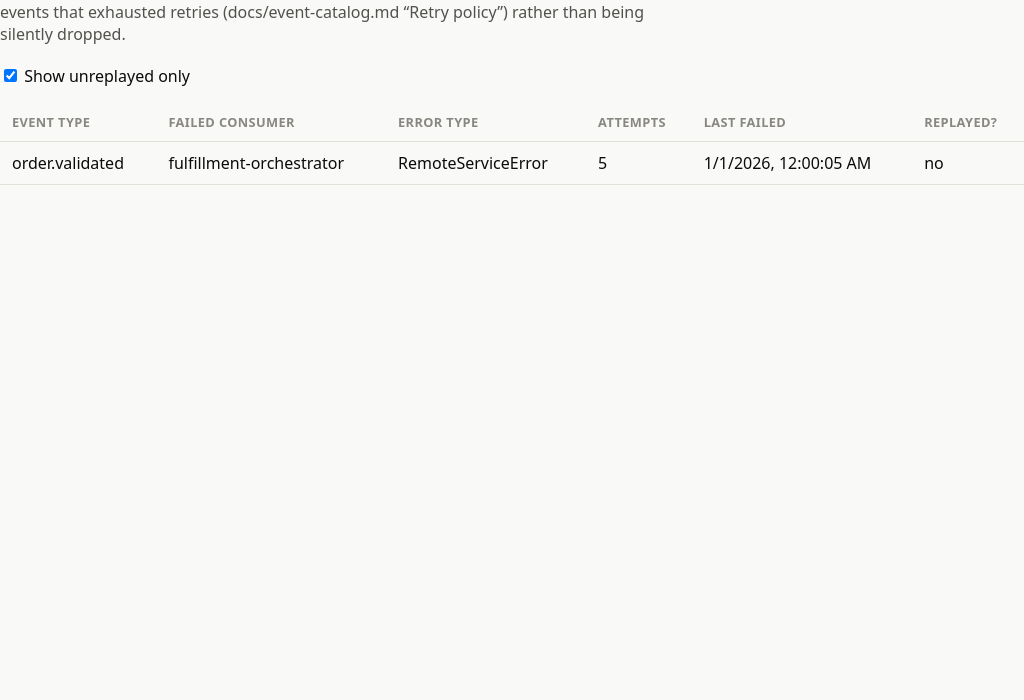
Test: DeadLetterQueuePage › shows an error state if replay fails
The width and height of the screenshot is (1024, 700).
Click the text "order.validated".
click(78, 163)  # box x1=0 y1=142 x2=156 y2=184
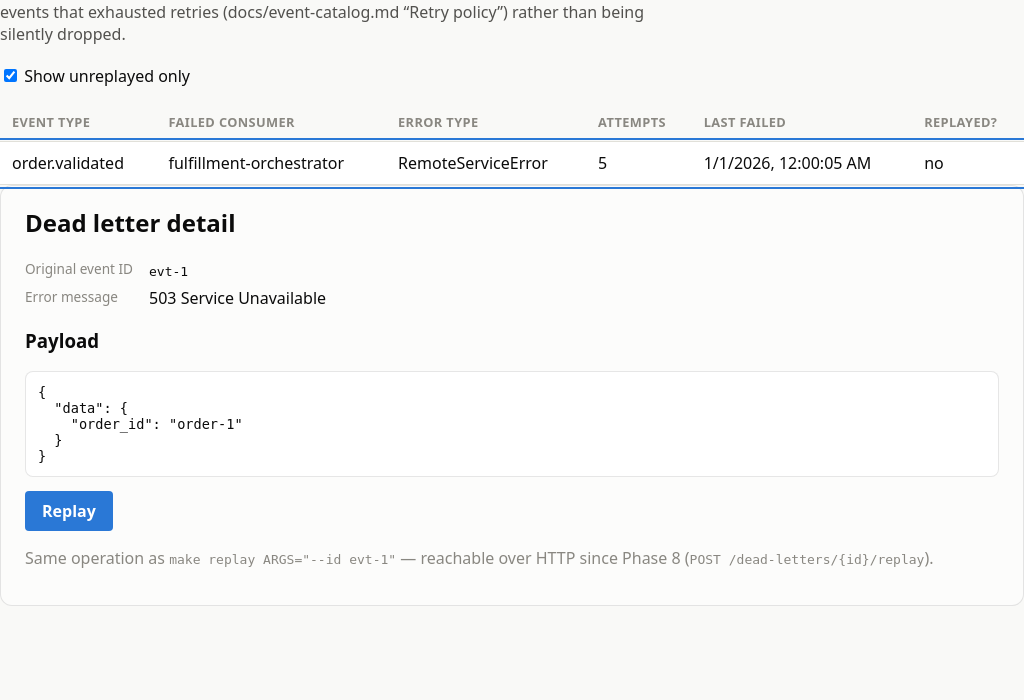
Click the button "Replay".
click(69, 511)  # box x1=25 y1=491 x2=113 y2=531
(page scrolled)
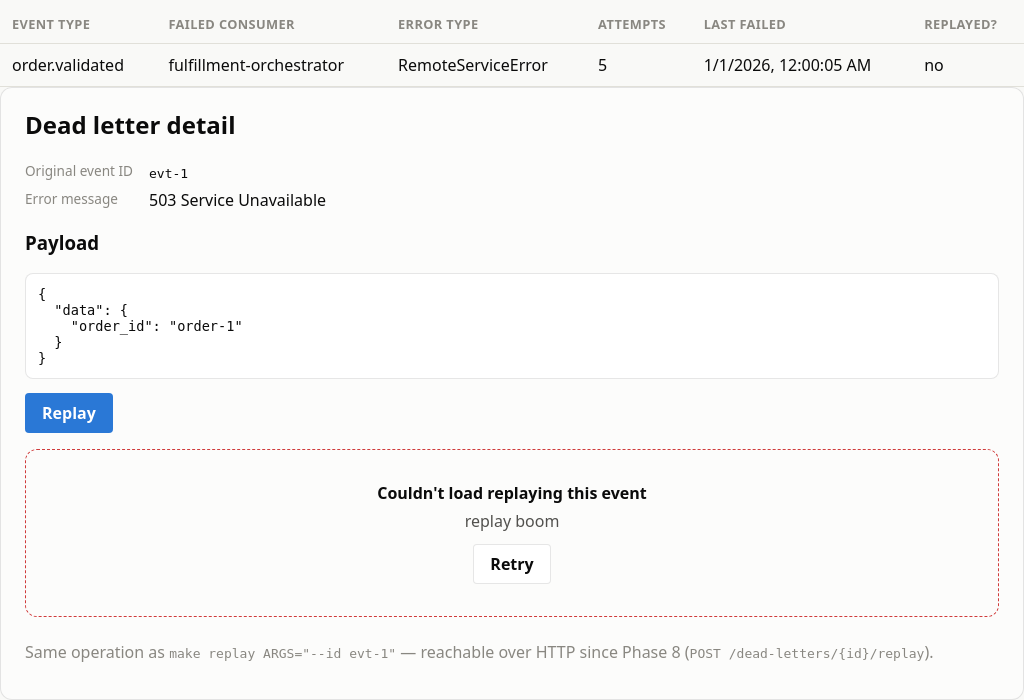
Expected: the message shows "replay boom", x1=465 y1=510 x2=559 y2=532
